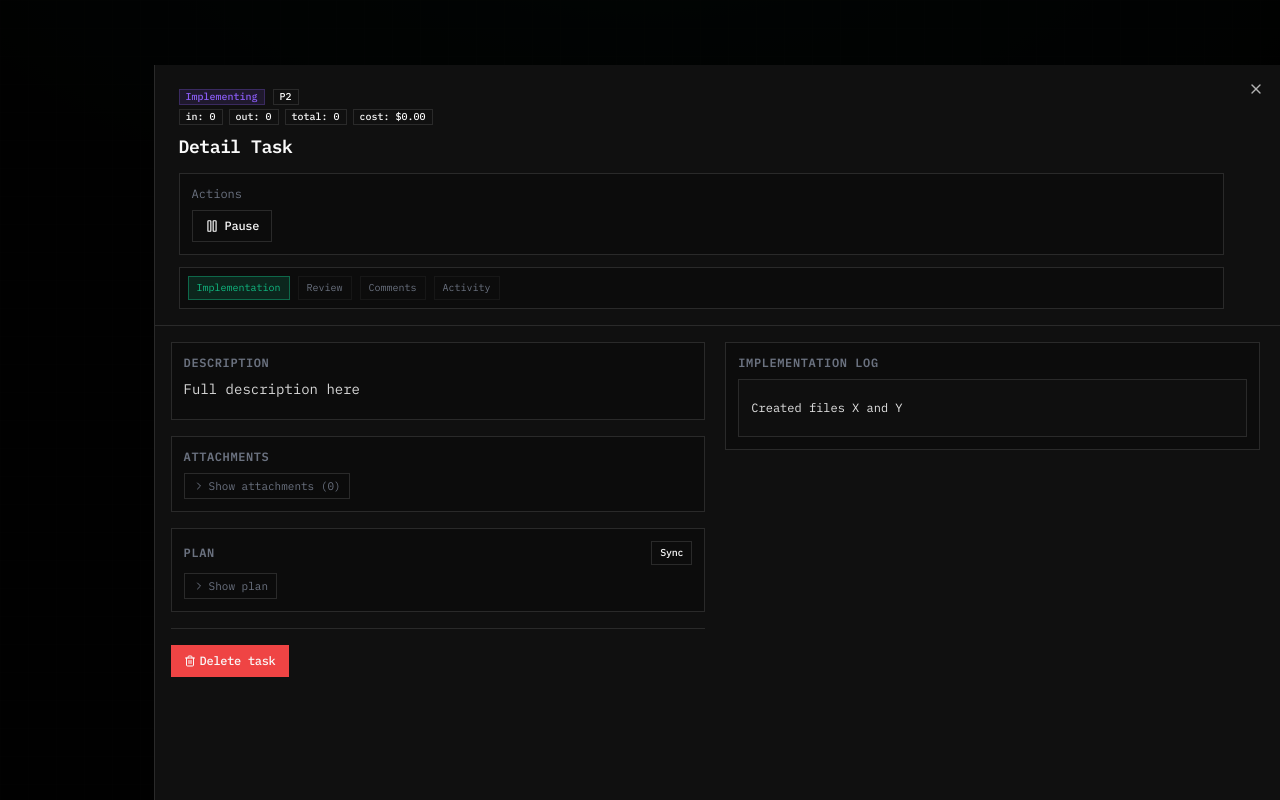
Test case: TaskDetail › should render agent activity timeline
The width and height of the screenshot is (1280, 800).
Click the tab "Activity" at (467,288), box [434, 276, 500, 300]
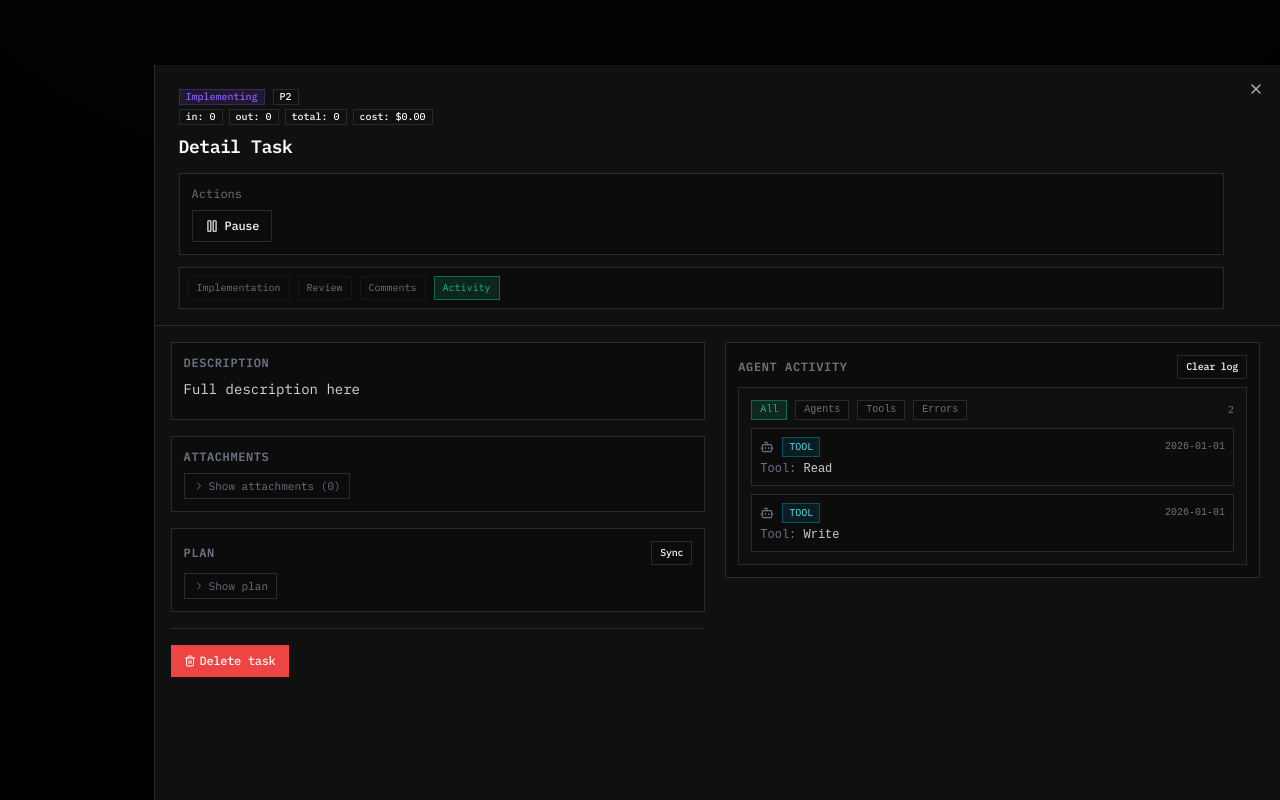
Expected: the text "Read" is shown, [804, 462, 832, 476]
Expected: the text "Write" is shown, [804, 528, 840, 542]
Expected: the 1st text "TOOL" is shown, [782, 437, 820, 457]
